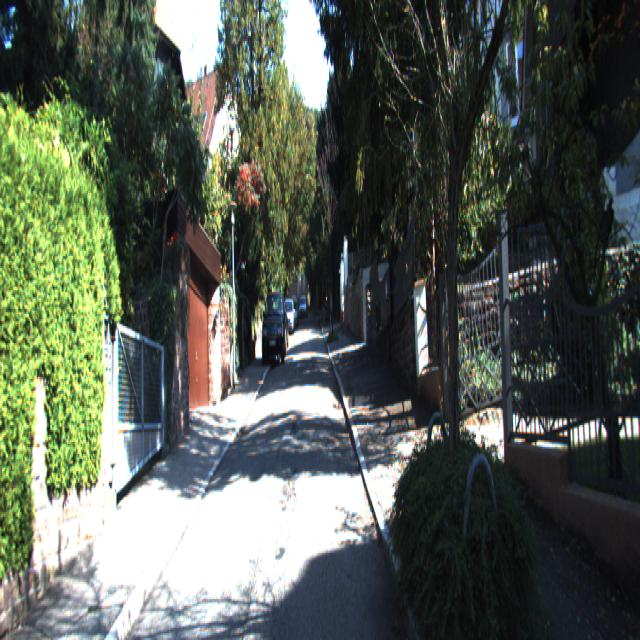Car: (261, 288, 286, 368), (283, 300, 296, 338)
